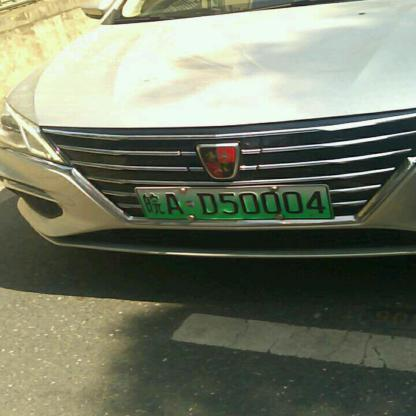lp: (134, 186, 332, 219)
